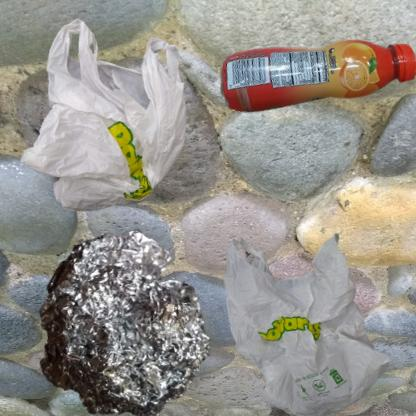aluminio: (10, 213, 237, 416)
bolsa: (10, 10, 222, 252), (213, 213, 407, 416)
botella: (213, 10, 416, 155)
